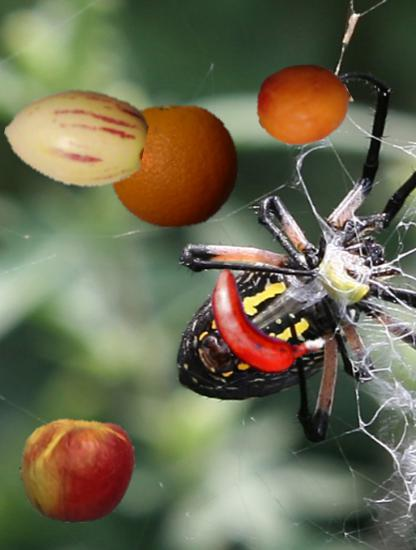Apple: (20, 413, 136, 529)
Apricot: (255, 56, 350, 151)
Banana: (191, 262, 320, 391)
Orange: (109, 101, 240, 232)
Pepino: (5, 67, 145, 207)
